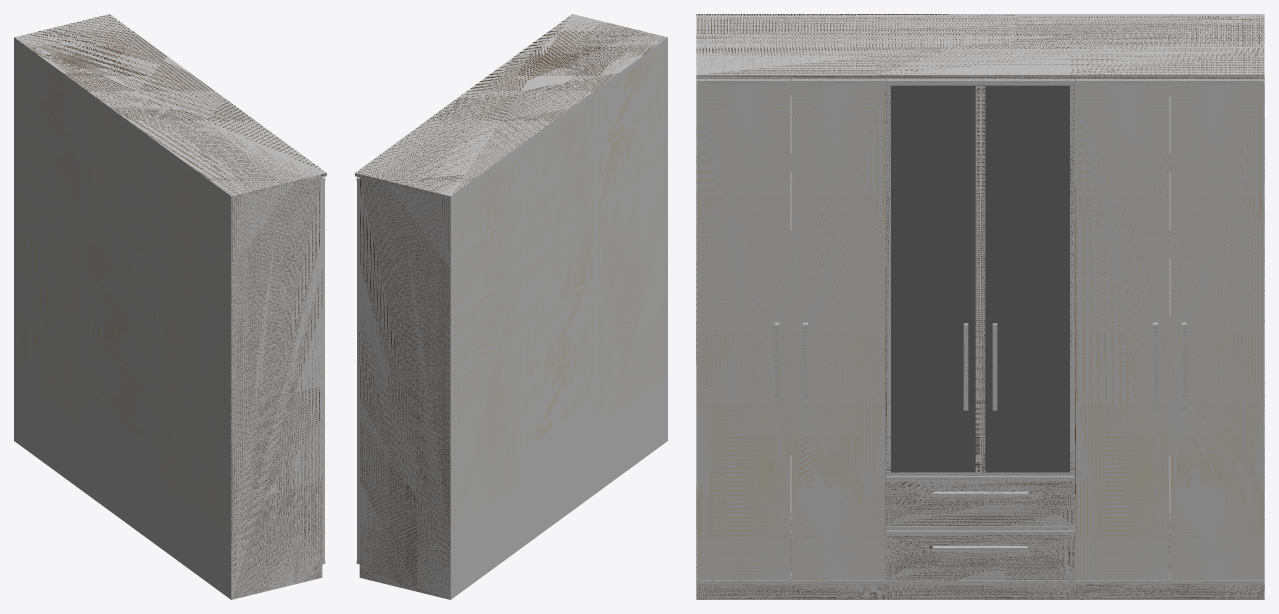
3 renders of one model, left to right at view 1: azimuth 30°, elevation 25°; view 2: azimuth 150°, elevation 25°; view 3: azimuth 270°, elevation 25°, orthographic. The views are drawn at different scales.
Visible parts, largest first — view 1: mesh1_mesh1-geometry; view 2: mesh1_mesh1-geometry; view 3: mesh1_mesh1-geometry, mesh3_mesh3-geometry, mesh2_mesh2-geometry.
Part boxes in pixels (x1=…): mesh1_mesh1-geometry: x1=14, y1=14, x2=326, y2=599; mesh1_mesh1-geometry: x1=355, y1=14, x2=667, y2=599; mesh1_mesh1-geometry: x1=696, y1=14, x2=1264, y2=599; mesh3_mesh3-geometry: x1=980, y1=79, x2=1074, y2=476; mesh2_mesh2-geometry: x1=886, y1=79, x2=980, y2=476.
Bounding box in the file's own units: 0.177 × 0.7045 × 0.6873.
5 materials, 1 textured.
